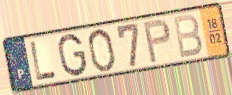7: (114, 22, 141, 68)
B: (171, 13, 204, 61)
G: (57, 32, 89, 78)
L: (29, 40, 59, 83)
O: (86, 27, 117, 74)
P: (142, 17, 173, 66)
